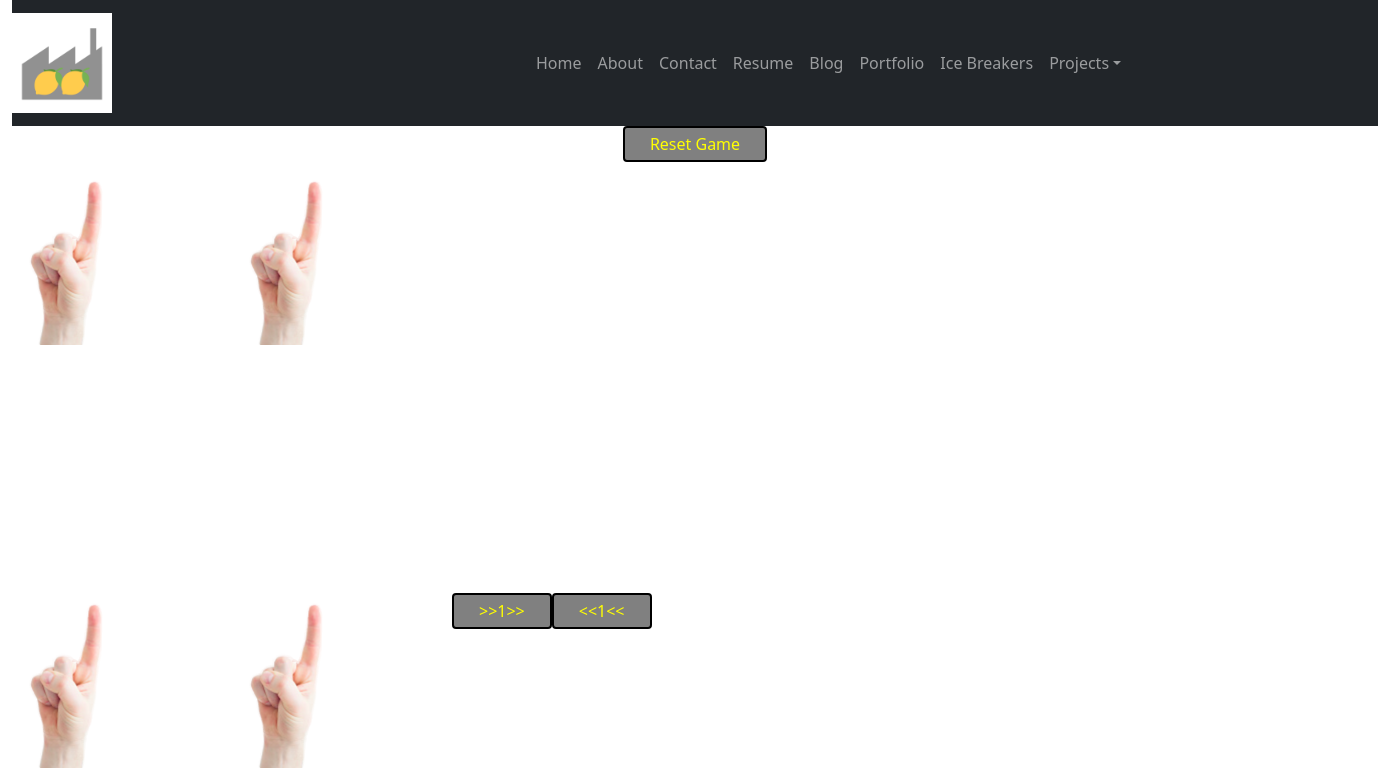
it: Chopsticks › Play until player 2 wins game over
strike, combine to 3, combine to 2, end game
Click the 3rd picture named "Hand with 1 fingers".
click(67, 681)  # box [12,593,122,767]
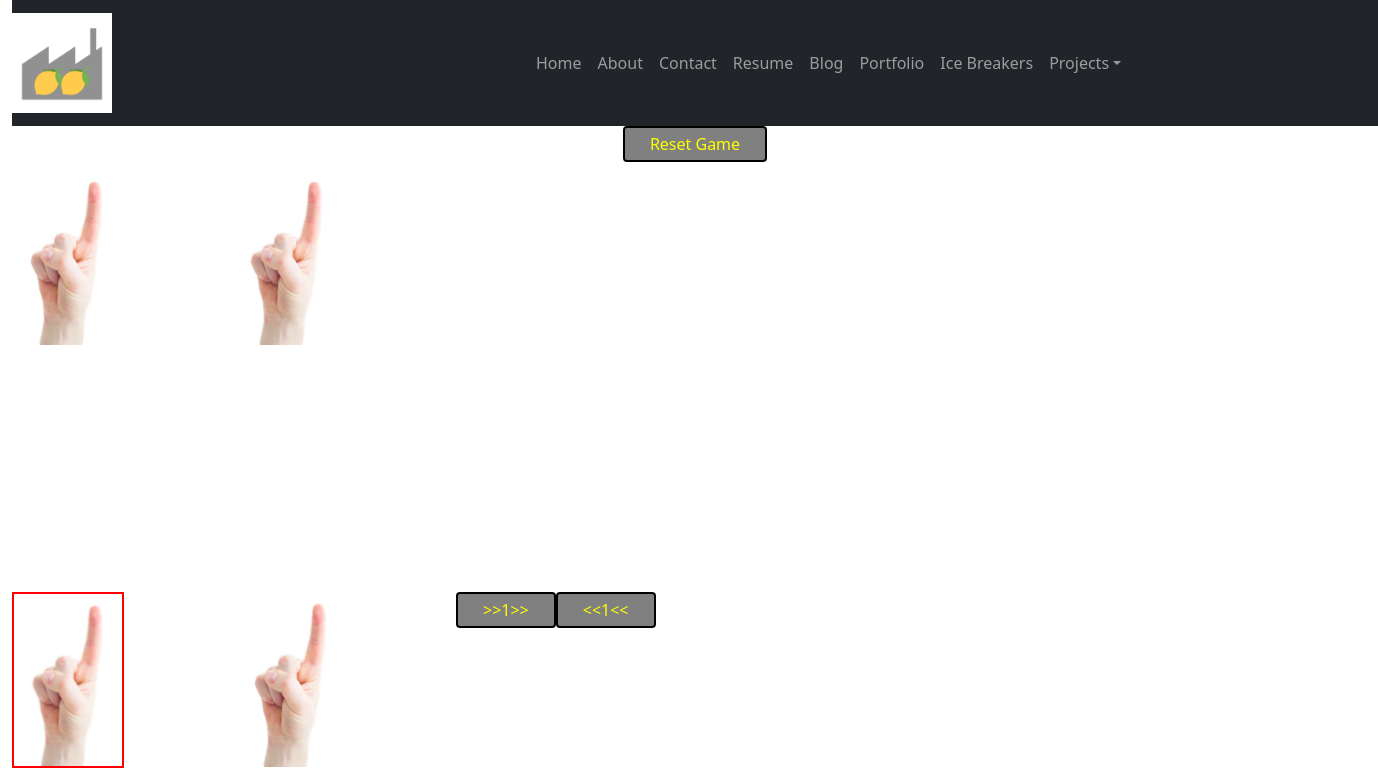
Click the 2nd picture named "Hand with 1 fingers".
click(287, 258)  # box [232,170,342,345]
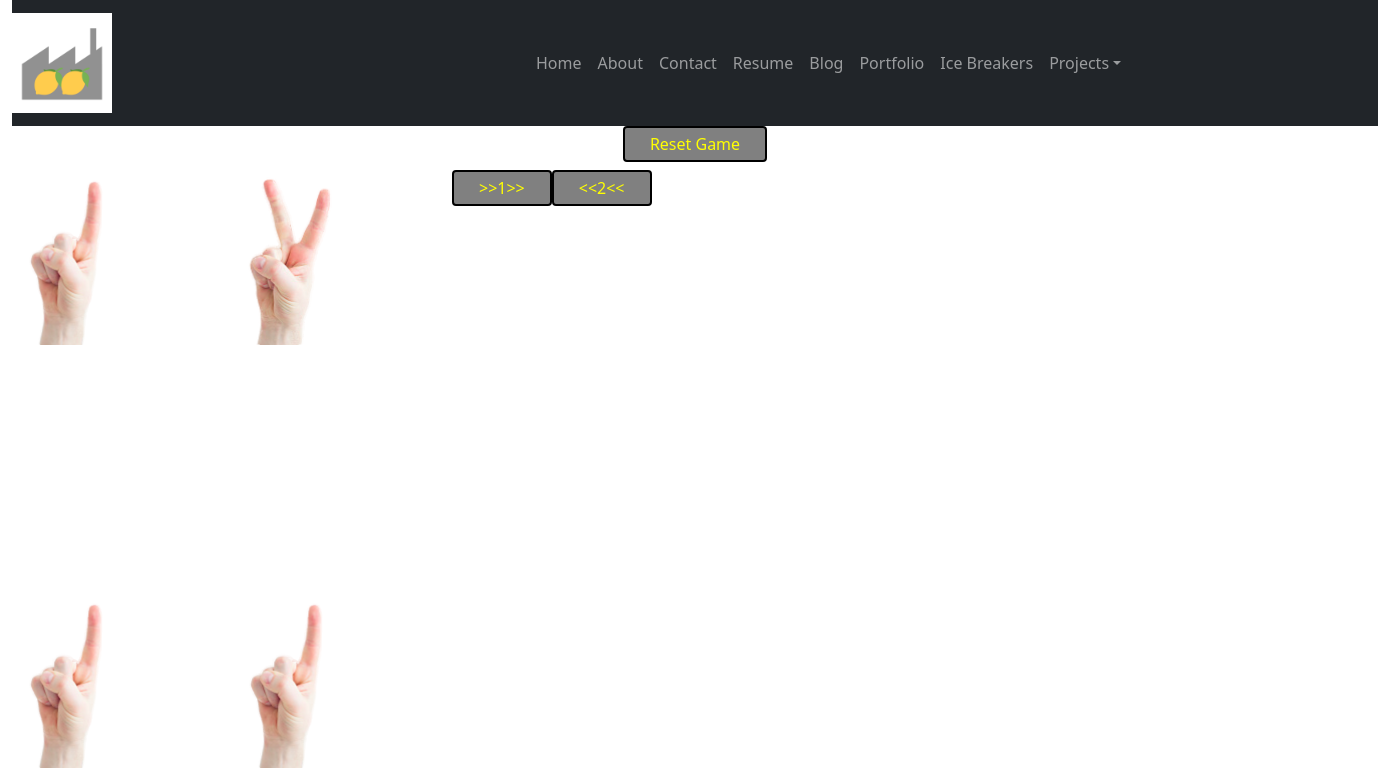
Click the button ">>1>>".
click(502, 188)  # box [452,170,552,206]
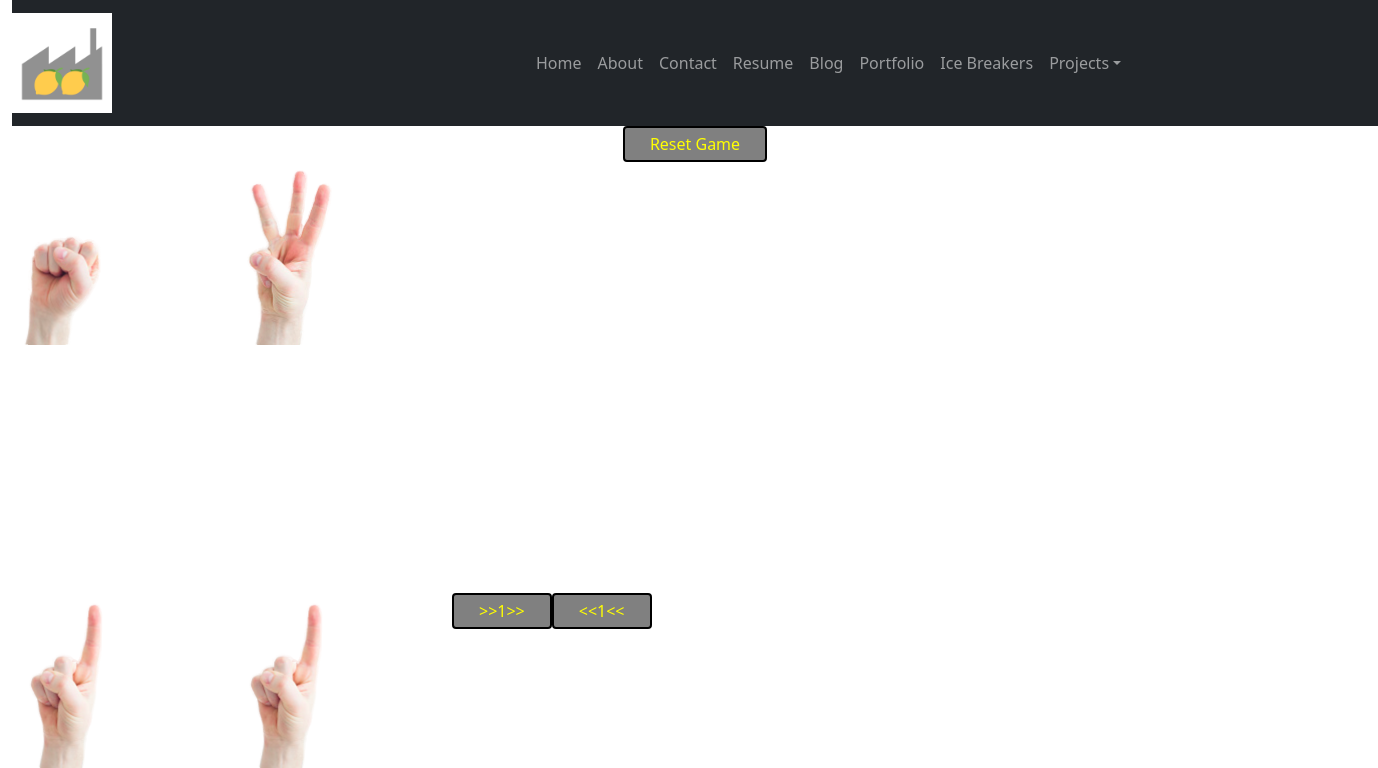
Click the button ">>1>>".
click(502, 611)  # box [452,593,552,629]
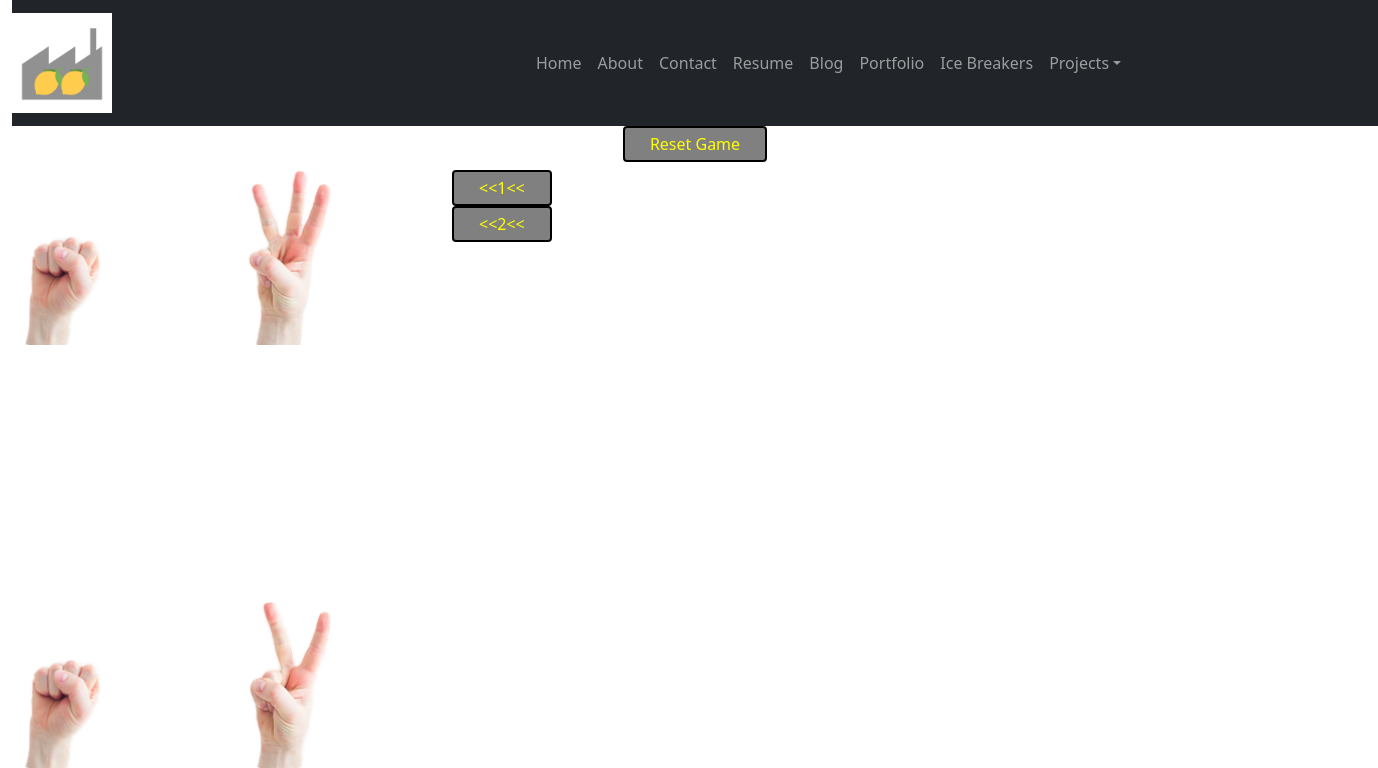
Click the picture named "Hand with 3 fingers".
click(287, 258)  # box [232,170,342,345]
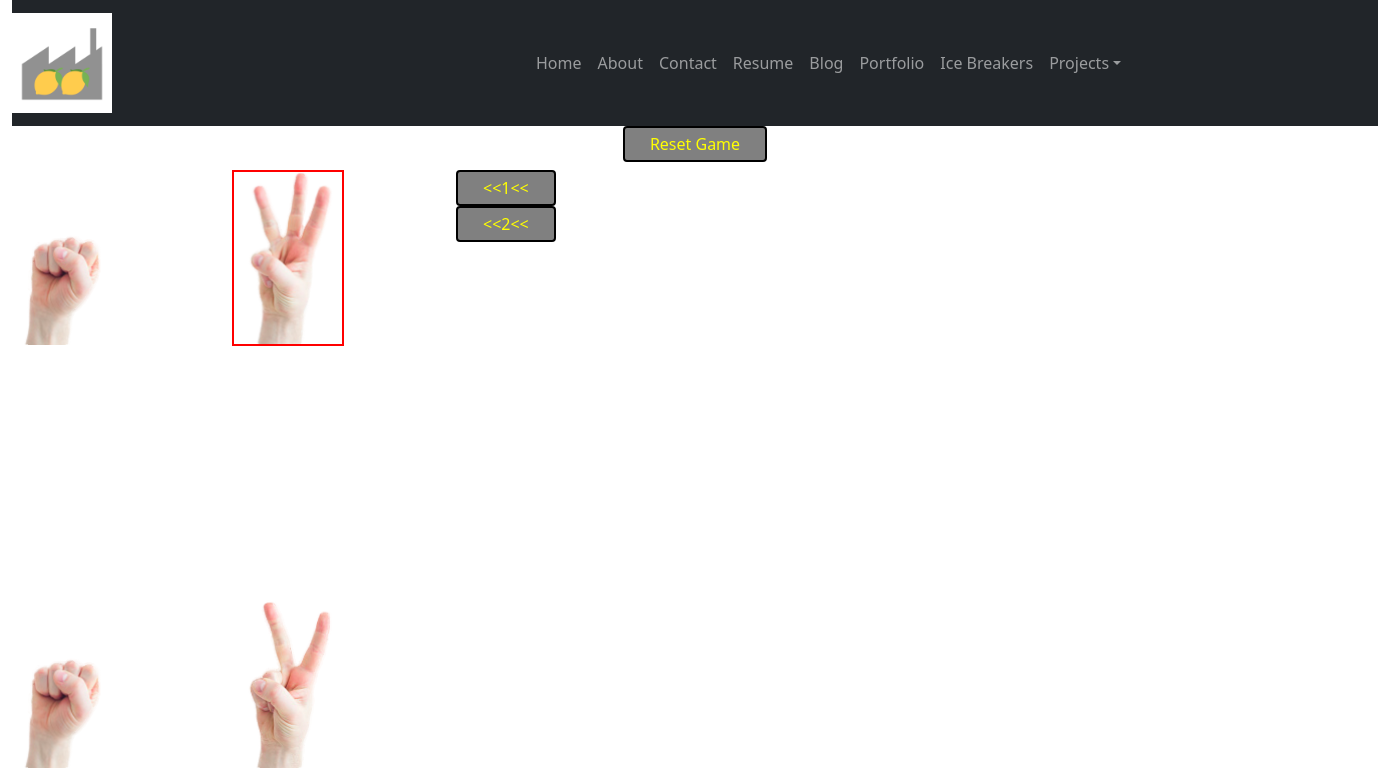
Click the picture named "Hand with 2 fingers".
click(287, 681)  # box [232,593,342,767]
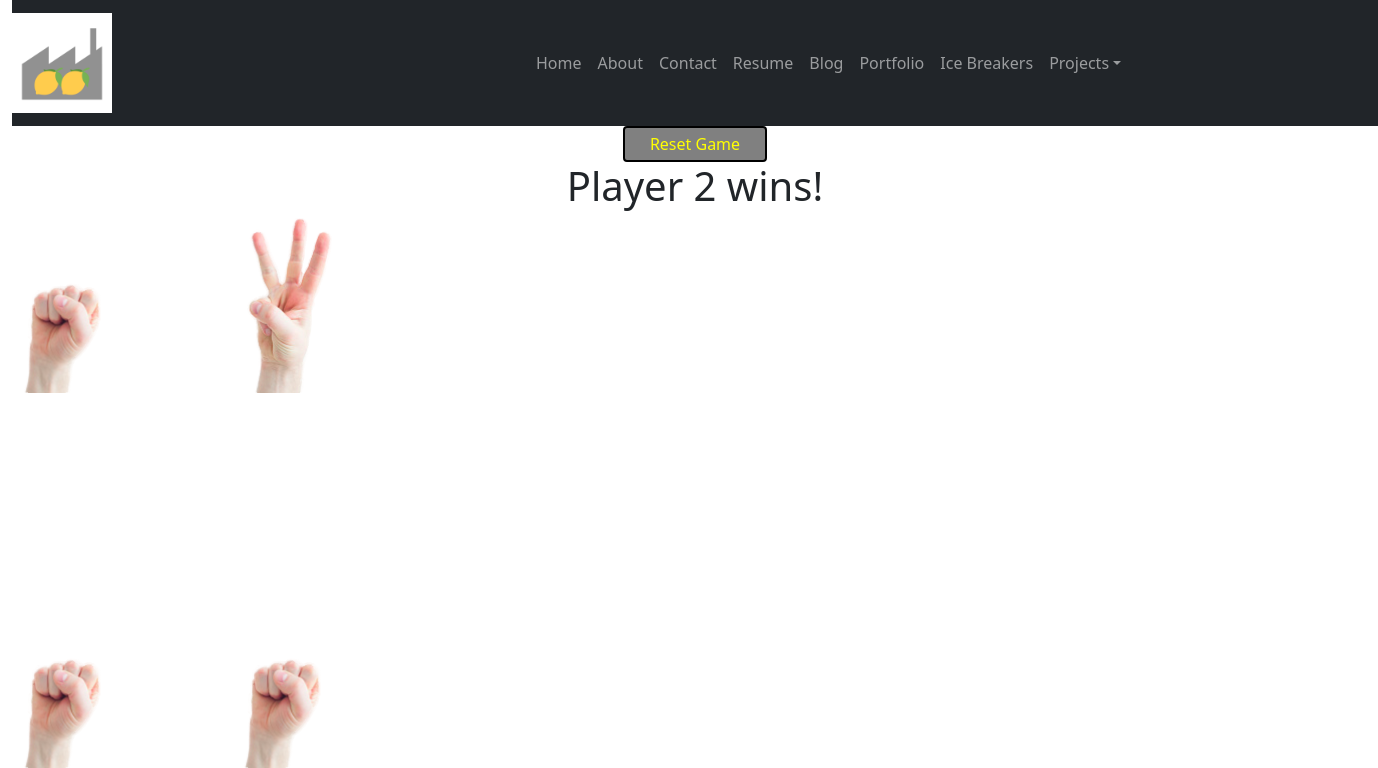
Expected: the heading "Player 2 wins!" is shown, [567,158,823,213]
